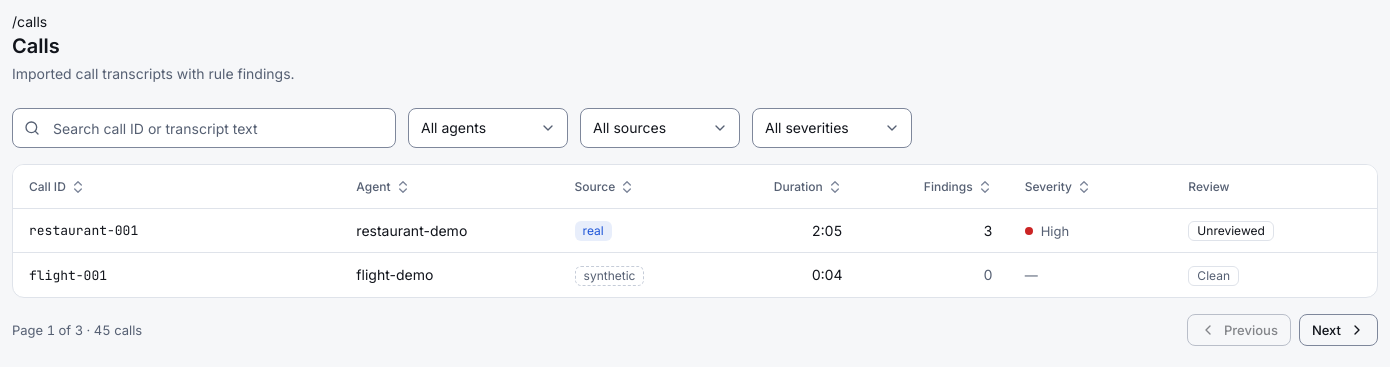
Test case: calls page › paginates with Previous and Next
The width and height of the screenshot is (1390, 367).
Expected: the button with aria-label "Previous page" is disabled, x1=1187 y1=314 x2=1291 y2=346
Click the button with aria-label "Next page" at coordinates (1338, 330), box x1=1299 y1=314 x2=1378 y2=346
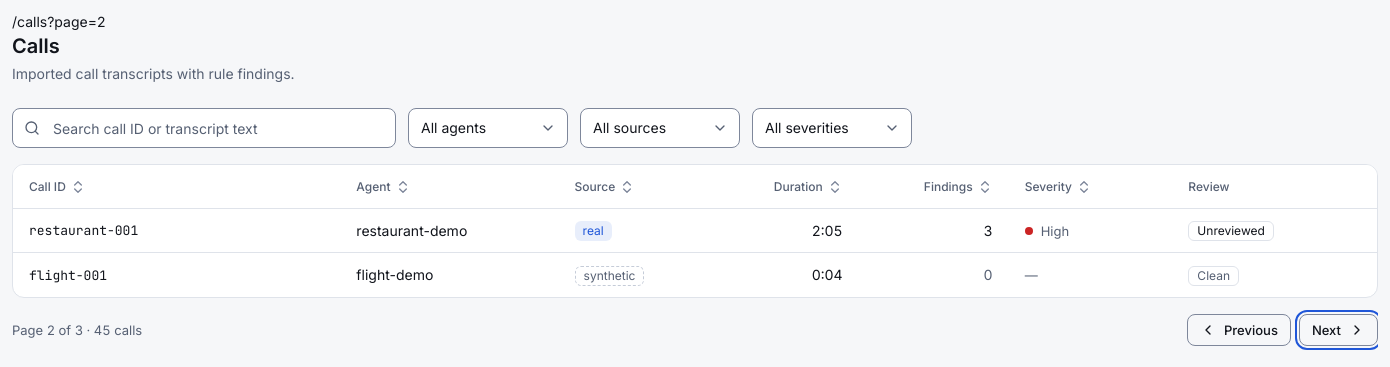
Expected: the text with test id "location" reads "/calls?page=2", x1=12 y1=13 x2=106 y2=30
Click the button with aria-label "Next page" at coordinates (1338, 330), box x1=1299 y1=314 x2=1378 y2=346
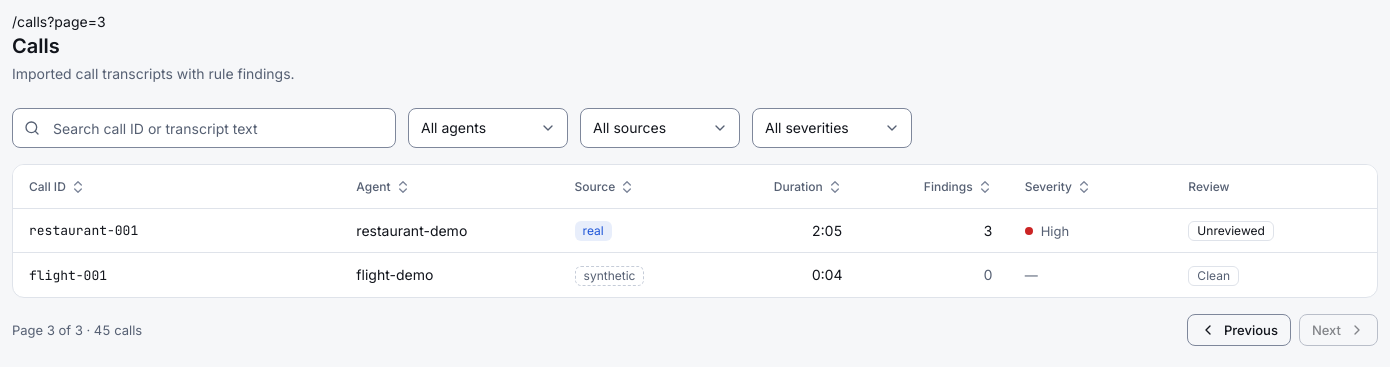
Expected: the button with aria-label "Next page" is disabled, x1=1299 y1=314 x2=1378 y2=346
